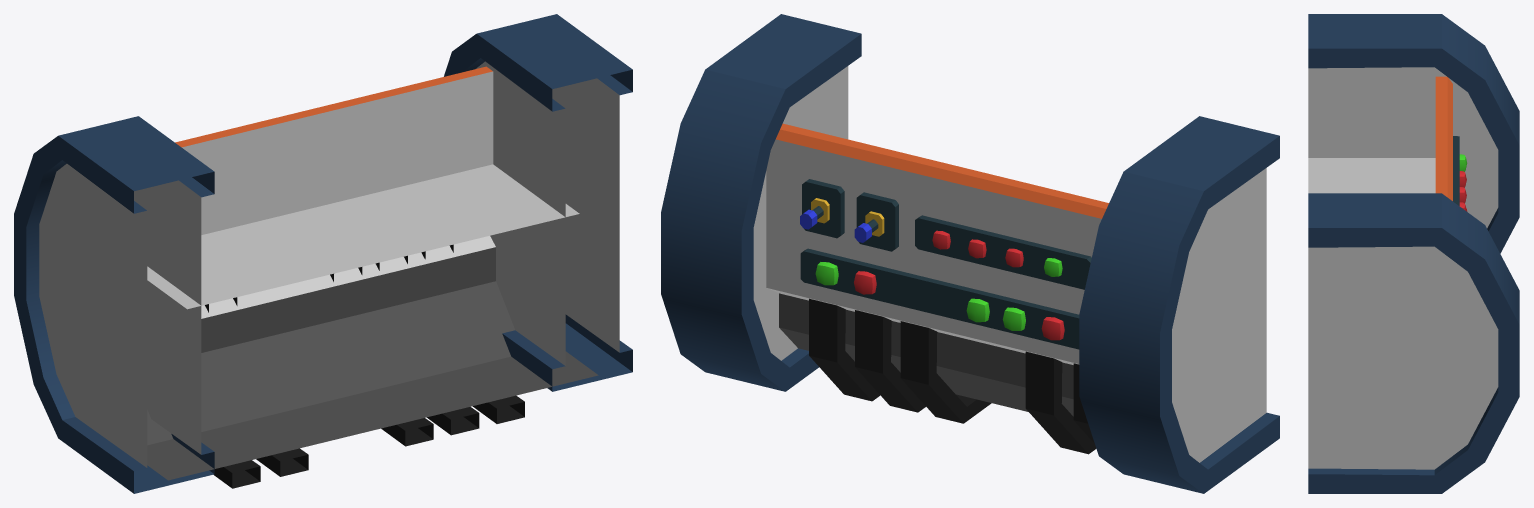
Rendered from Machine 05 Controller.FBX.
3 renders of one model, left to right at view 1: azimuth 30°, elevation 25°; view 2: azimuth 150°, elevation 25°; view 3: azimuth 270°, elevation 25°, orthographic. The views are drawn at different scales.
Parts seen in each view (by area): view 1: Machine 05 Controller; view 2: Machine 05 Controller; view 3: Machine 05 Controller.
Part boxes in pixels (<box>): Machine 05 Controller: <box>14,14,632,493</box>; Machine 05 Controller: <box>661,14,1279,493</box>; Machine 05 Controller: <box>1308,14,1519,493</box>.
Bounding box in the file's own units: 215 × 132 × 89.64.
Materials: 1 (1 with a texture image).
